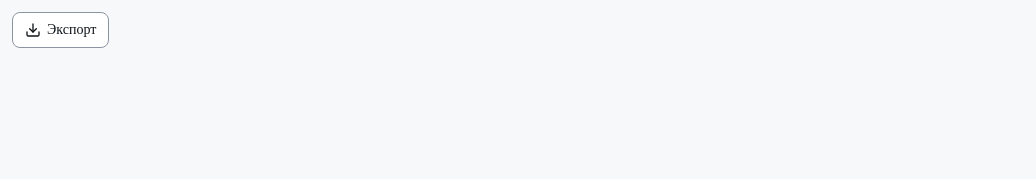
ExportMenu › раскрывает меню и отдаёт оба формата
This screenshot has width=1036, height=179.
Later steps or results of the test are not shown.
Click the button with test id "export": point(61, 30) [12,12,109,48]
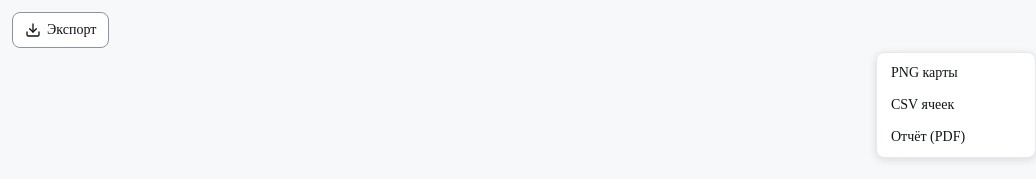
Check: the menu is shown, box [876,52,1035,158]
Click the menu item with test id "export-png": point(956, 73) [881,57,1031,89]
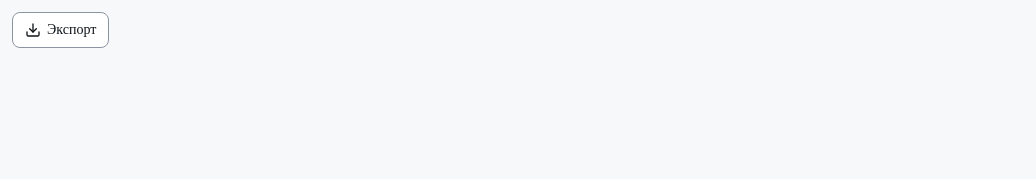
Check: the menu item with test id "export-png" is gone
